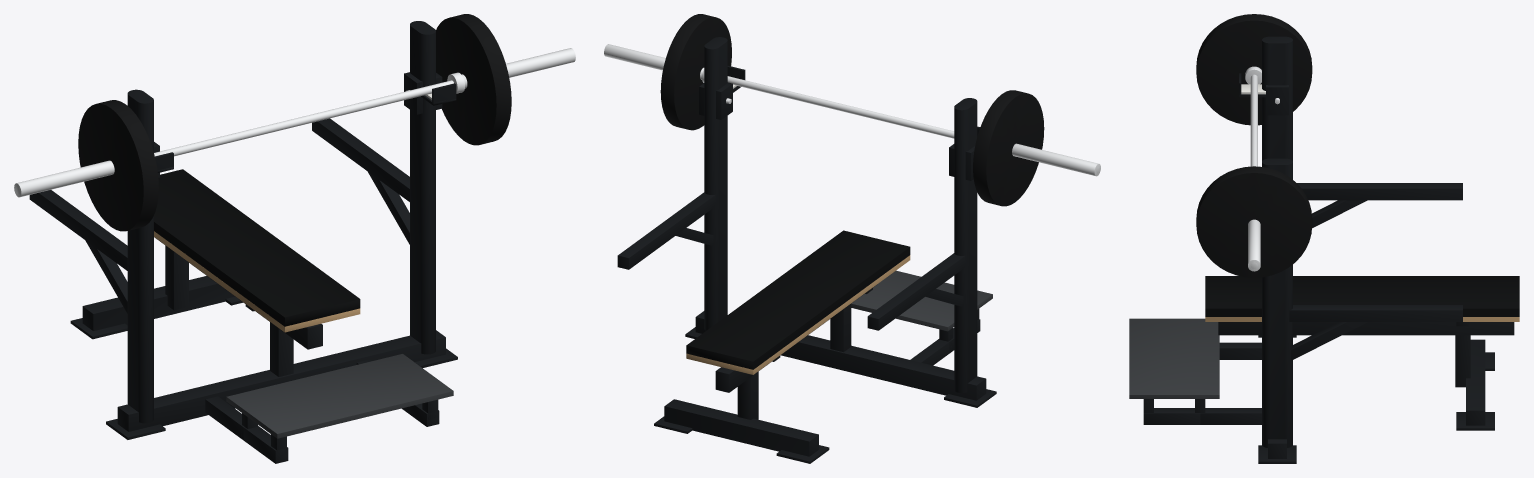
3 views of the same model, side by side, from view 1: azimuth 30°, elevation 25°; view 2: azimuth 150°, elevation 25°; view 3: azimuth 270°, elevation 25° (orthographic). The views are drawn at different scales.
Parts seen in each view (by area): view 1: pad, tread, frame.017, rubber, rubber.001, frame, frame.011, frame.003, chrome.002, frame.021, frame.015, chrome.003 (+10 smaller); view 2: pad, frame.011, frame.017, rubber, frame, rubber.001, frame.003, tread, frame.015, frame.021, chrome.002, wood (+7 smaller); view 3: rubber.001, pad, tread, rubber, frame.017, frame.006, frame.011, frame.021, frame.015, frame.003, frame.030, frame.022 (+10 smaller).
Boxes of the visible parts, <box> form: pad: <box>154,169,360,326</box>; tread: <box>226,354,453,438</box>; frame.017: <box>410,21,435,354</box>; rubber: <box>78,100,158,231</box>; rubber.001: <box>436,14,511,145</box>; frame: <box>117,330,445,431</box>; frame.011: <box>127,89,153,423</box>; frame.003: <box>82,276,234,330</box>; chrome.002: <box>15,80,453,194</box>; frame.021: <box>312,118,409,201</box>; frame.015: <box>29,190,127,270</box>; chrome.003: <box>14,160,114,197</box>; pad: <box>686,230,910,369</box>; frame.011: <box>954,98,977,392</box>; frame.017: <box>704,37,727,330</box>; rubber: <box>973,90,1044,206</box>; frame: <box>695,311,986,400</box>; rubber.001: <box>660,14,731,130</box>; frame.003: <box>664,399,818,456</box>; tread: <box>851,270,992,331</box>; frame.015: <box>867,253,965,330</box>; frame.021: <box>617,192,715,269</box>; chrome.002: <box>727,76,1099,173</box>; wood: <box>686,255,910,374</box>; rubber.001: <box>1196,166,1312,277</box>; pad: <box>1205,276,1519,316</box>; tread: <box>1129,318,1219,398</box>; rubber: <box>1196,14,1312,125</box>; frame.017: <box>1262,158,1292,447</box>; frame.006: <box>1218,322,1514,335</box>; frame.011: <box>1262,36,1292,160</box>; frame.021: <box>1289,305,1462,321</box>; frame.015: <box>1297,183,1462,200</box>; frame.003: <box>1466,339,1485,425</box>; frame.030: <box>1200,408,1261,424</box>; frame.022: <box>1291,322,1367,360</box>.
Bounding box in the file's own units: 2.2 × 1.28 × 1.52.
